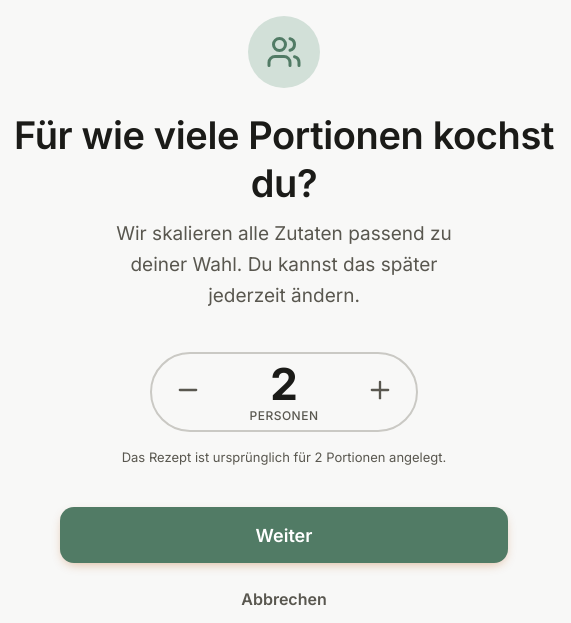
Test: PortionsPickerOverlay › increments the value via the plus button
The image size is (571, 623).
Click the button named "Portion erhöhen" at coordinates (380, 390), box x1=344 y1=354 x2=416 y2=426
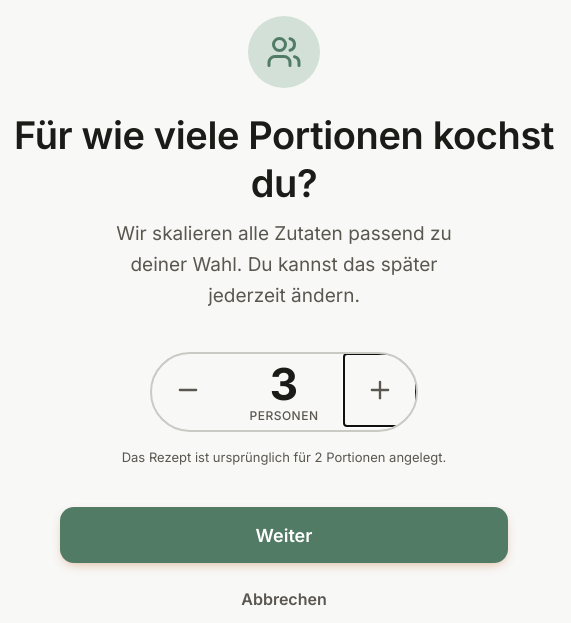
Result: the text "3" is shown at x1=270 y1=357 x2=298 y2=411
